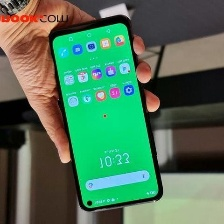phone: (46, 11, 165, 215)
